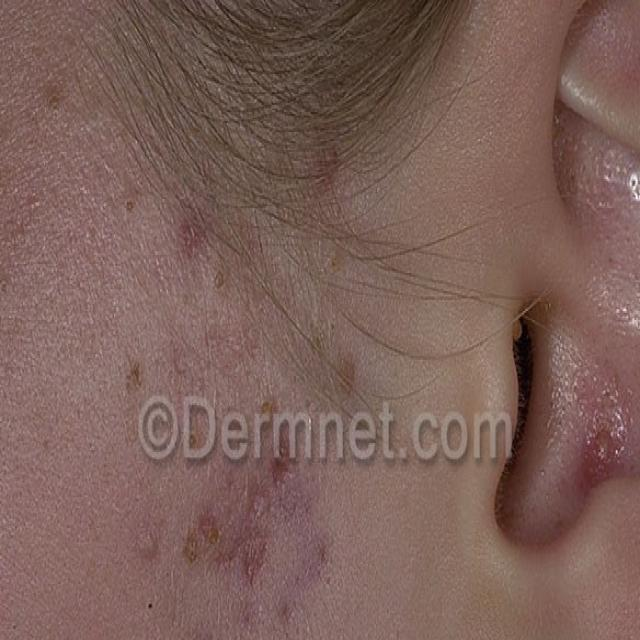Acne: (104, 124, 391, 640), (576, 409, 640, 515)
